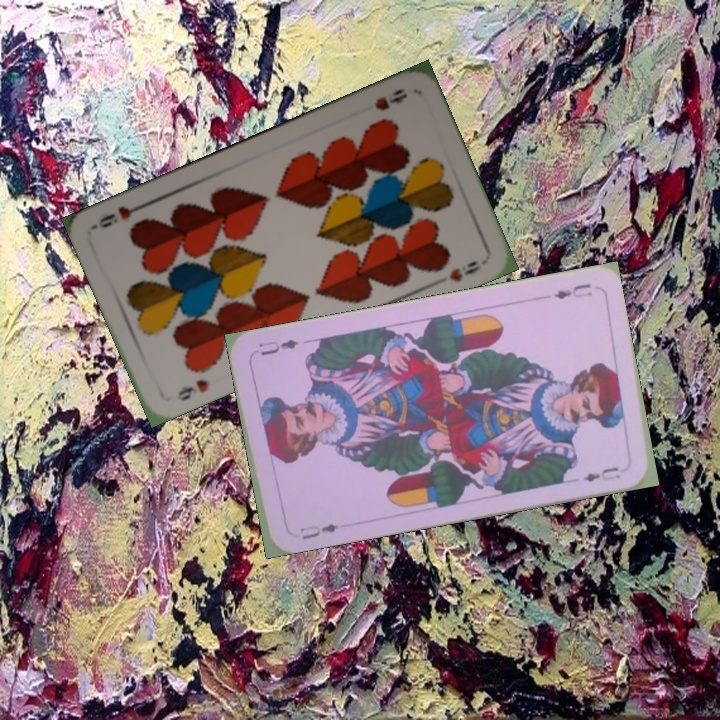EU: (549, 279, 595, 302), (296, 519, 341, 542)
H9: (370, 84, 410, 113), (173, 375, 211, 404)
